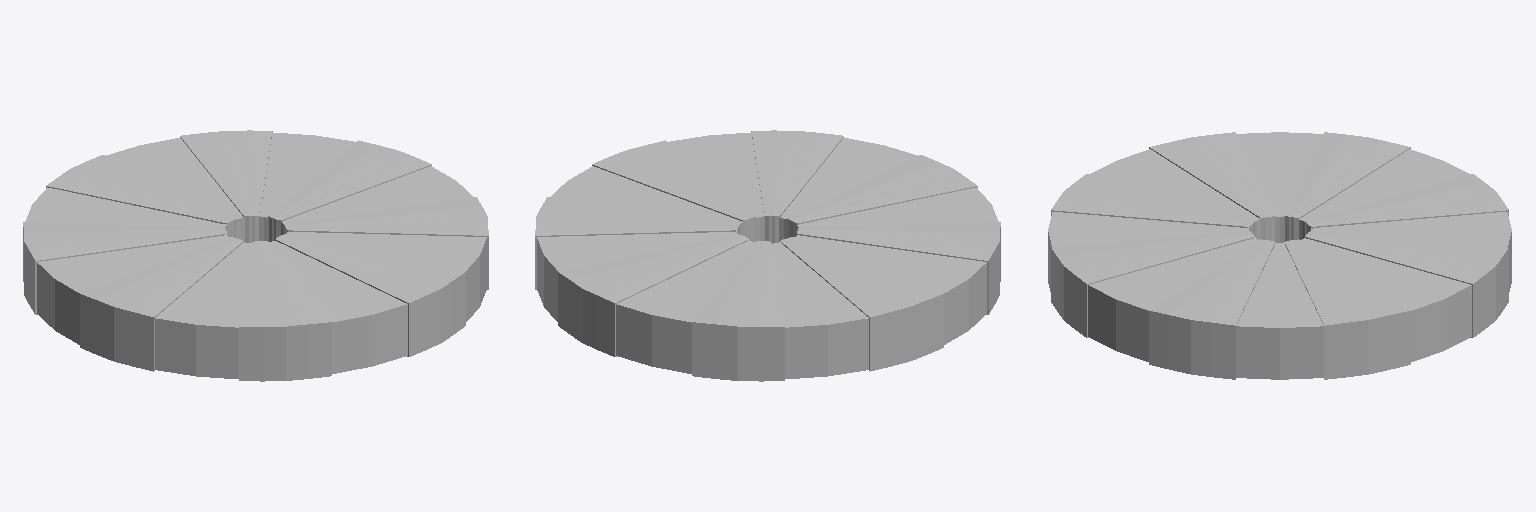
The model's file is car_bed_glass_white_wheel.obj.
3 views of the same model, side by side, from view 1: azimuth 30°, elevation 25°; view 2: azimuth 150°, elevation 25°; view 3: azimuth 270°, elevation 25° (orthographic).
Parts seen in each view (by area): view 1: dark_blue_bed.001_Circle.002, dark_blue_bed_Circle.001; view 2: dark_blue_bed.001_Circle.002, dark_blue_bed_Circle.001; view 3: dark_blue_bed.001_Circle.002, dark_blue_bed_Circle.001.
Boxes of the visible parts, <box> form: dark_blue_bed.001_Circle.002: <box>23,130,488,381</box>; dark_blue_bed_Circle.001: <box>25,132,486,378</box>; dark_blue_bed.001_Circle.002: <box>535,130,1000,381</box>; dark_blue_bed_Circle.001: <box>537,132,998,378</box>; dark_blue_bed.001_Circle.002: <box>1051,132,1508,379</box>; dark_blue_bed_Circle.001: <box>1048,132,1511,379</box>.
Bounding box in the file's own units: 2 × 0.2607 × 2.